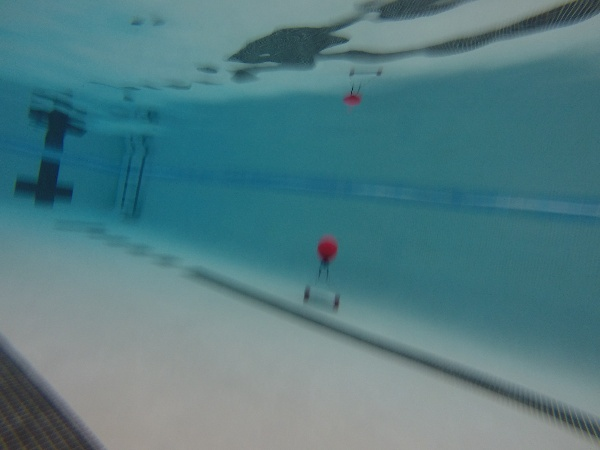buoy_red: (313, 235, 338, 271)
